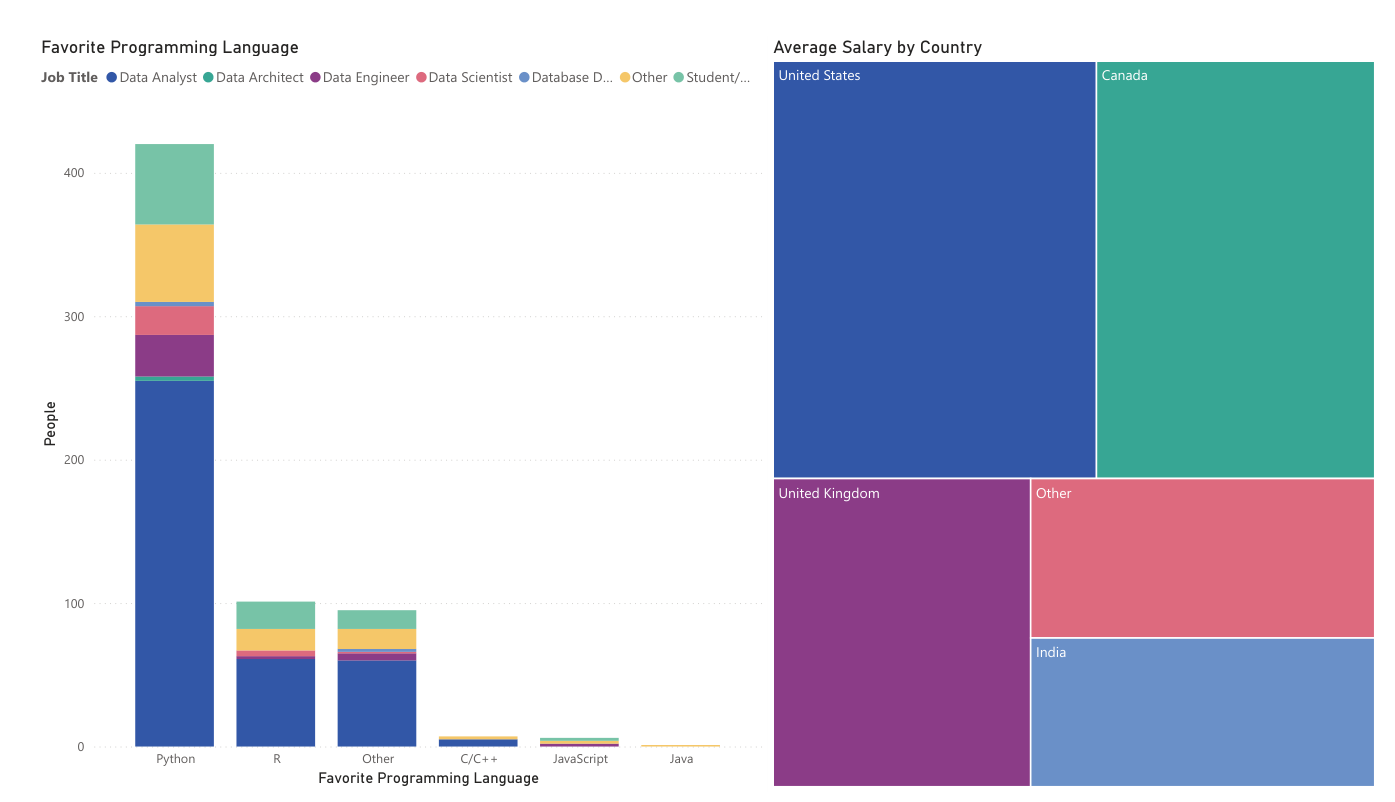

The page's visual inventory and layout, read from the dashboard file:
{"tool":"powerbi","page":{"name":"Page 2","canvas":[1280,720],"ordinal":1},"visuals":[{"type":"columnChart","title":"Favorite Programming Language","fields":{"Y":["CountNonNull(Data Professional Survey.Unique ID)"],"Category":["Data Professional Survey.Q5 - Favorite Programming Language.1"],"Series":["Data Professional Survey.Q1 - Which Title Best Fits your Current Role?.1"]},"box":[0,0,697.1,720],"z":0},{"type":"treemap","title":"Average Salary by Country","fields":{"Group":["Data Professional Survey.Q11 - Which Country do you live in?.1"],"Values":["Avg(Data Professional Survey.Average Salary)"]},"box":[697.1,0,582.9,720],"z":1000}]}

Visuals, with their boxes in screenshot pixels (x1, y1, x2, y2), scaled from the page's 1280x720 canvas onto the 1395x802 screenshot:
"Favorite Programming Language" columnChart: [left=0, top=0, right=760, bottom=801]
"Average Salary by Country" treemap: [left=760, top=0, right=1394, bottom=801]
